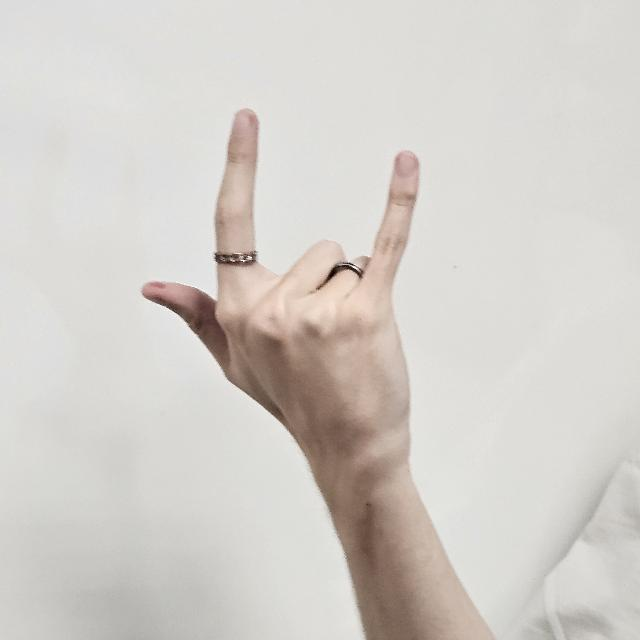Cima: (142, 107, 424, 471)
